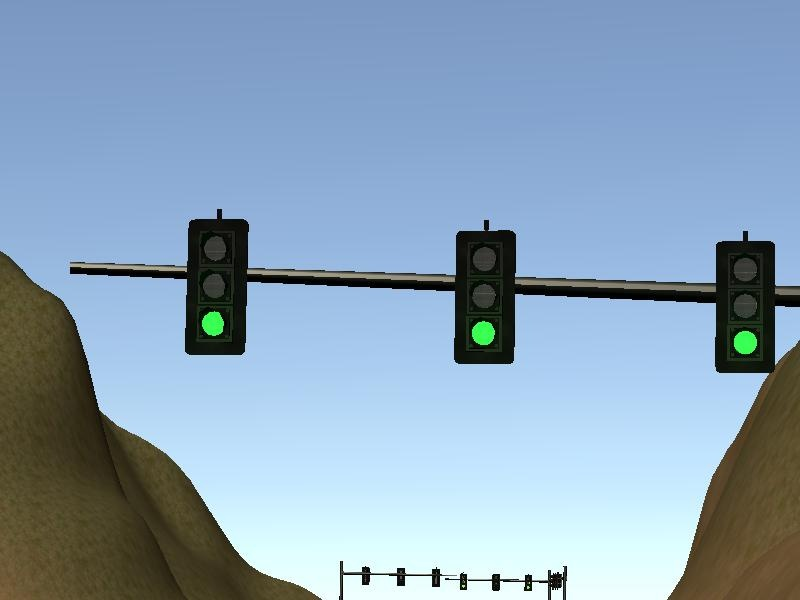green: (178, 214, 258, 361), (707, 233, 784, 374), (449, 223, 523, 369)
